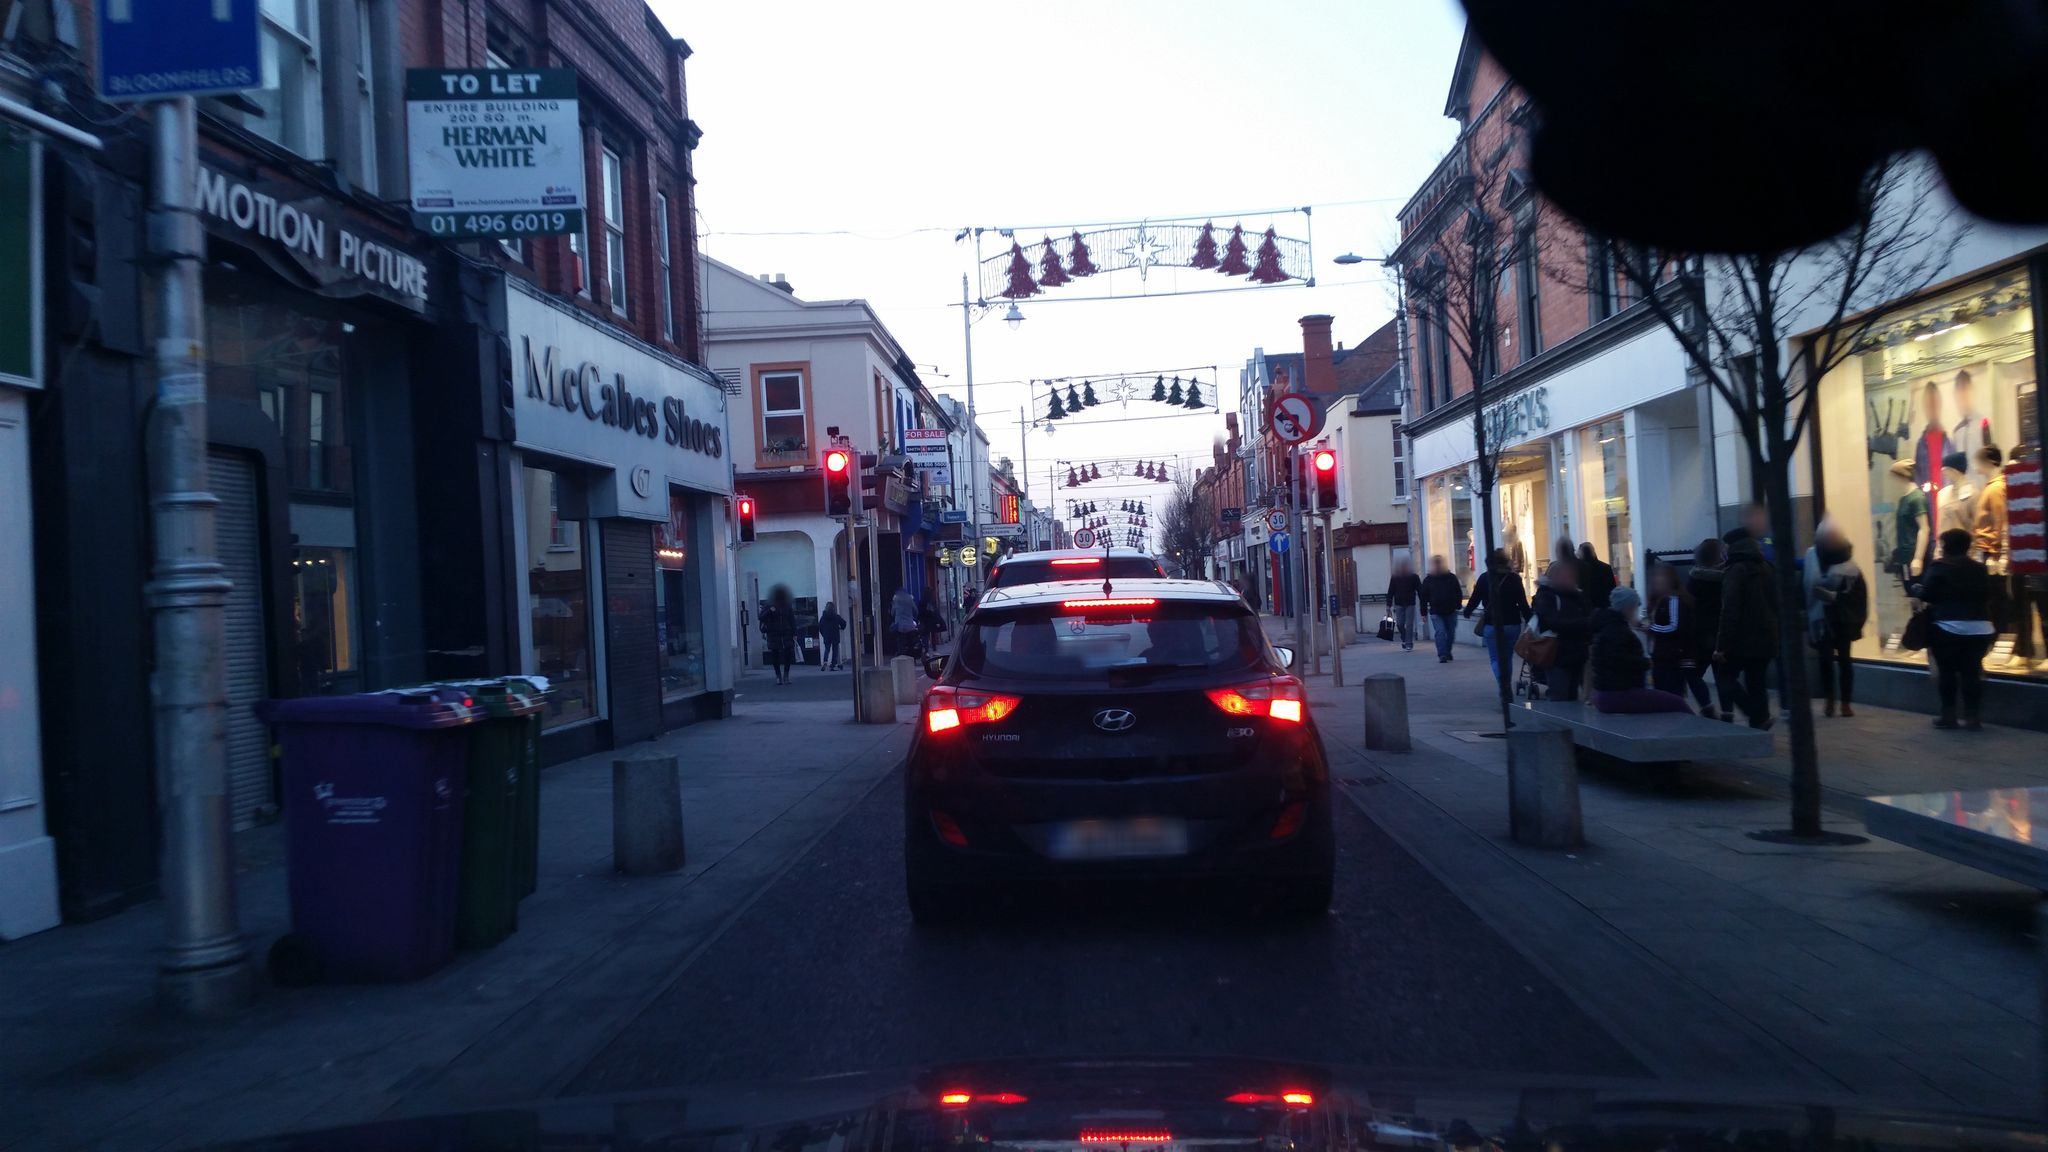property sign: (390, 51, 596, 253), (902, 414, 956, 487)
